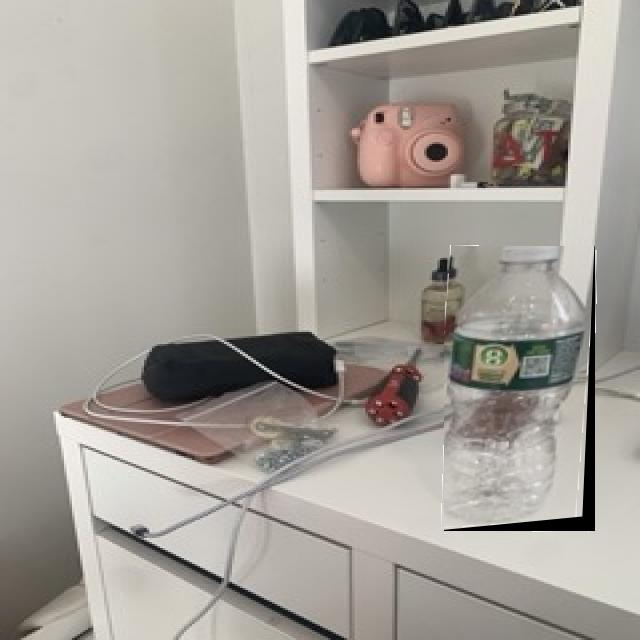water_bottle: (444, 246, 595, 531)
